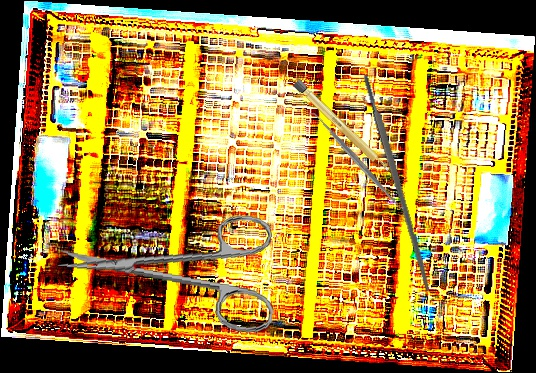Iris Scissors: (53, 195, 283, 336)
Scalpel Handle: (361, 73, 434, 293), (292, 78, 392, 176)
Spatula Surgical: (306, 106, 407, 215)
